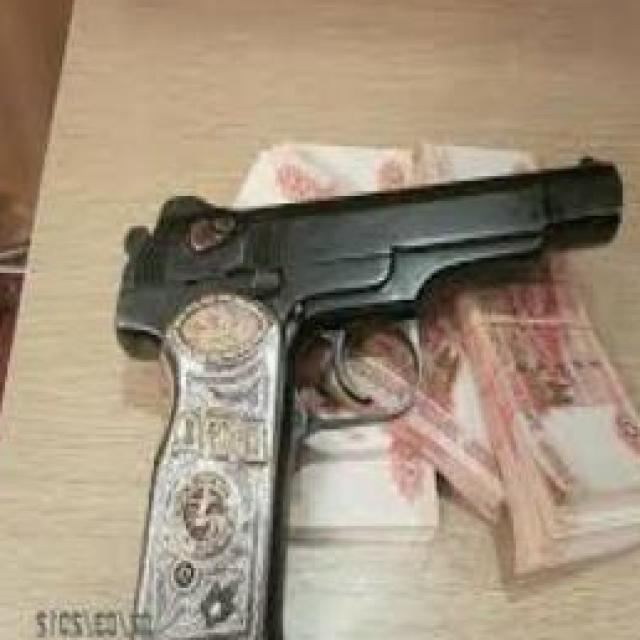pistol: (112, 136, 628, 640)
